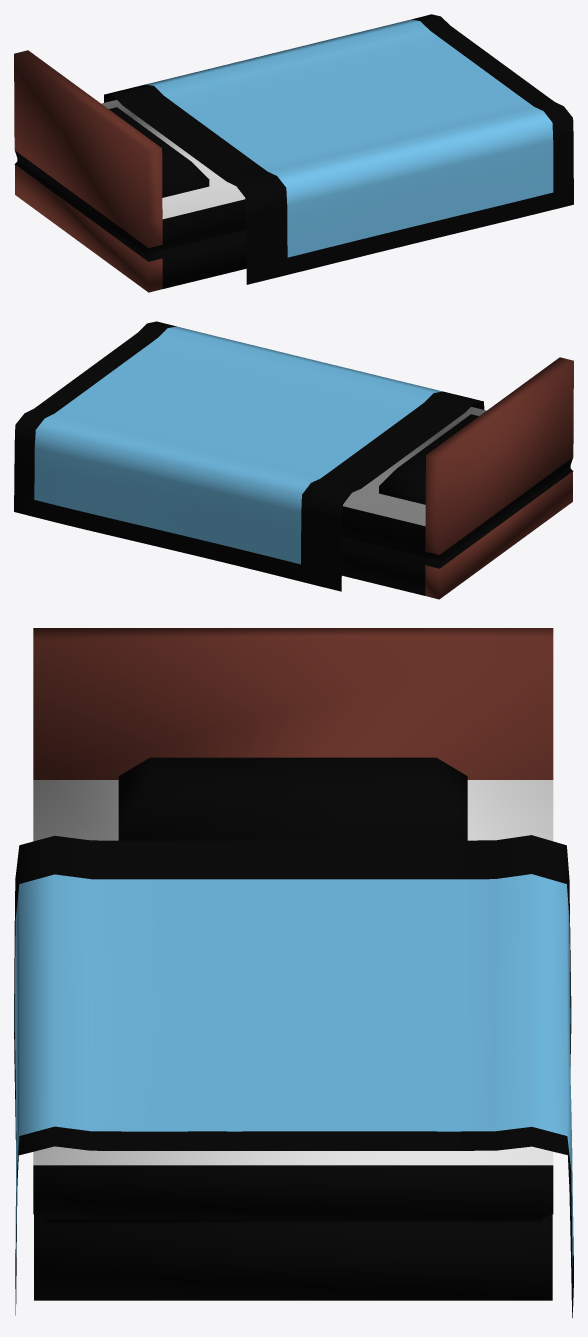
File: NormalBed.fbx
3 views of the same model, one above another, from view 1: azimuth 30°, elevation 25°; view 2: azimuth 150°, elevation 25°; view 3: azimuth 270°, elevation 25° (orthographic). The views are drawn at different scales.
Visible parts, largest first — view 1: Plane, Cube; view 2: Plane, Cube; view 3: Cube, Plane.
Part boxes in pixels (<box>): Plane: <box>104,14,573,284</box>; Cube: <box>14,50,246,292</box>; Plane: <box>14,321,484,591</box>; Cube: <box>342,357,573,599</box>; Cube: <box>33,628,553,1300</box>; Plane: <box>14,835,573,1317</box>.
Bounding box in the file's own units: 206 × 122 × 71.19.
